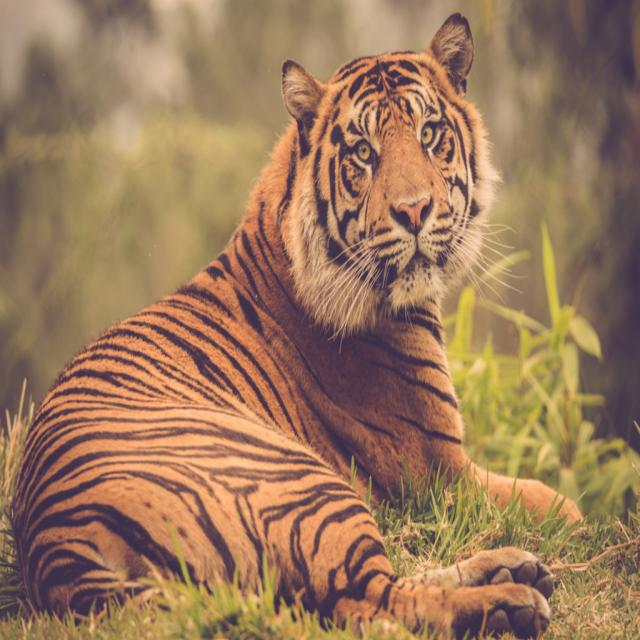Tiger: (8, 10, 593, 639)
